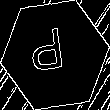P_S: (35, 27, 75, 83)
